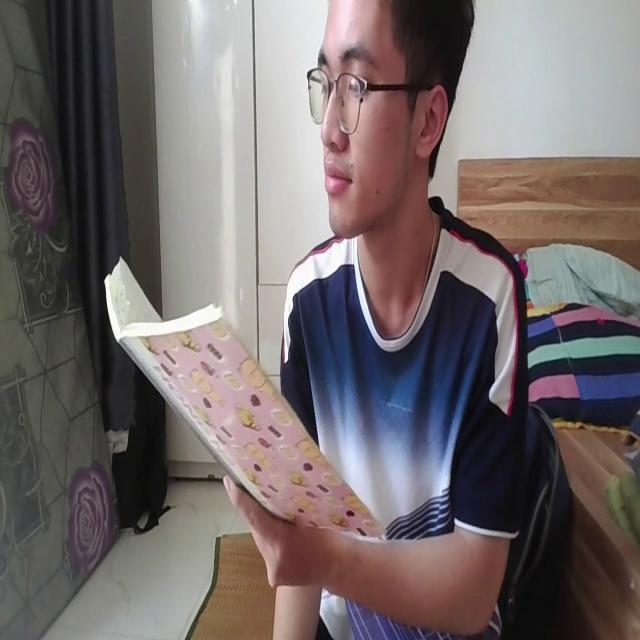book: (97, 251, 385, 538)
student: (274, 0, 528, 640)
